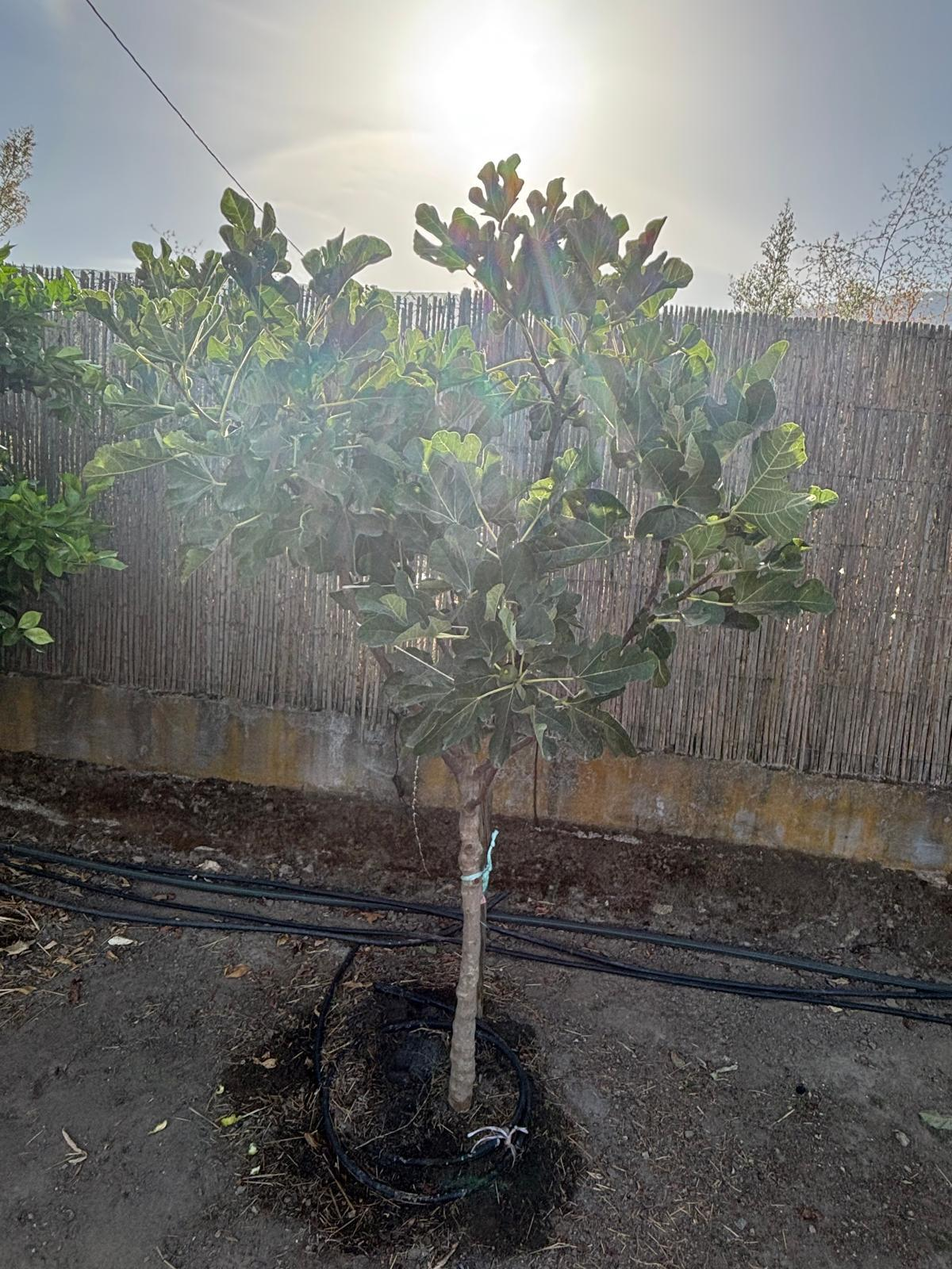higera: (172, 254, 789, 1130)
